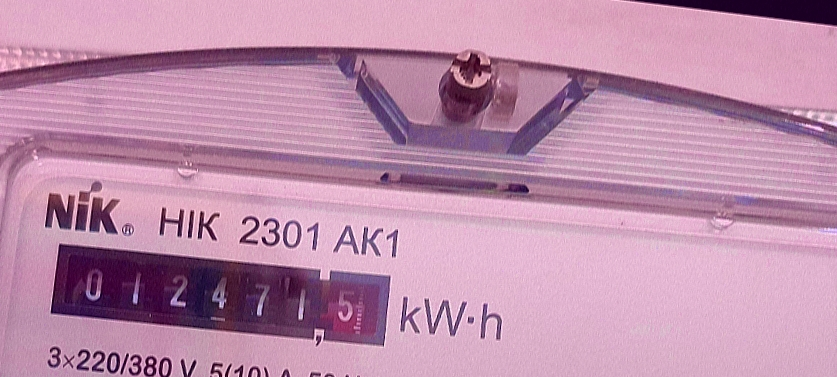0: (78, 266, 106, 304)
1: (127, 271, 143, 308), (292, 286, 307, 324)
2: (166, 273, 191, 311)
4: (207, 274, 230, 313)
5: (332, 286, 358, 326)
7: (246, 281, 271, 321)
screen: (37, 227, 404, 366)
